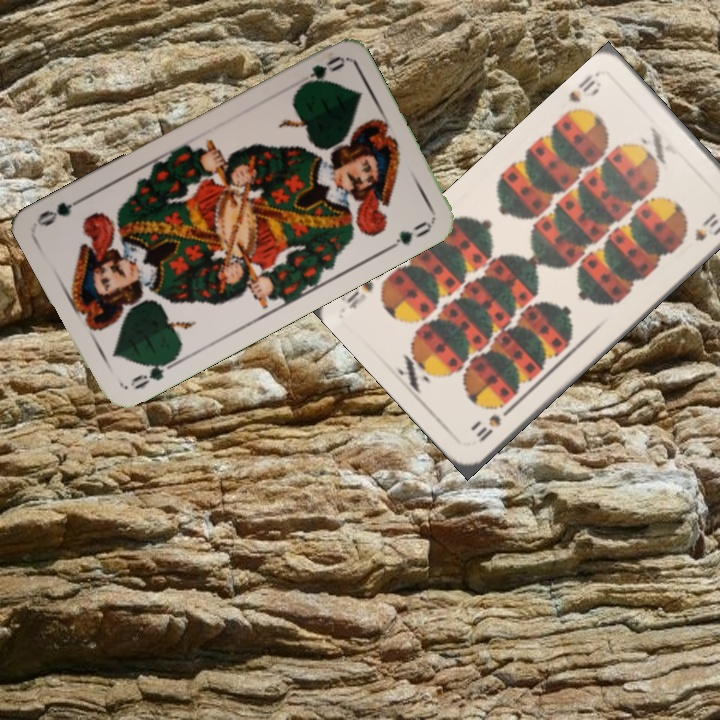GO: (293, 52, 347, 94), (126, 356, 179, 393)
S10: (472, 402, 516, 445), (564, 70, 598, 105)
